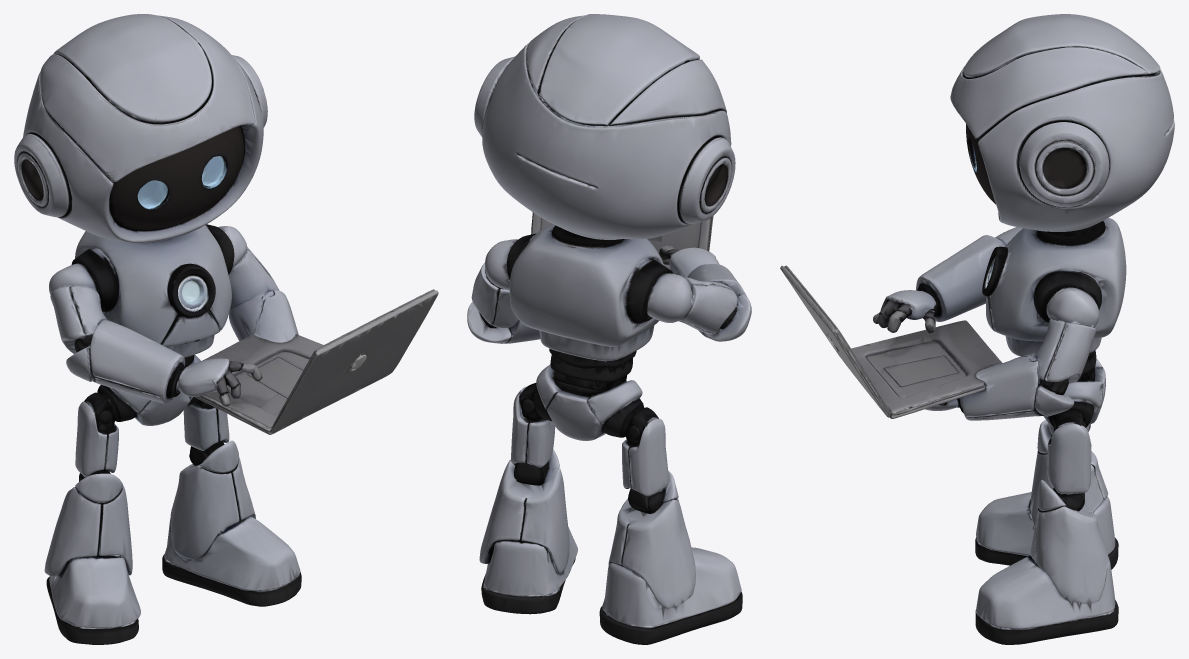
Rendered from joseph.glb.
3 renders of one model, left to right at view 1: azimuth 30°, elevation 25°; view 2: azimuth 150°, elevation 25°; view 3: azimuth 270°, elevation 25°, orthographic. The views are drawn at different scales.
Parts seen in each view (by area): view 1: tripo_node_8bbe689a-29e9-4648-9f48-9d42a53198d9; view 2: tripo_node_8bbe689a-29e9-4648-9f48-9d42a53198d9; view 3: tripo_node_8bbe689a-29e9-4648-9f48-9d42a53198d9.
Part boxes in pixels (left/top/right/bottom): tripo_node_8bbe689a-29e9-4648-9f48-9d42a53198d9: left=14, top=14, right=438, bottom=644; tripo_node_8bbe689a-29e9-4648-9f48-9d42a53198d9: left=467, top=14, right=751, bottom=644; tripo_node_8bbe689a-29e9-4648-9f48-9d42a53198d9: left=780, top=14, right=1174, bottom=644.
Bounding box in the file's own units: 0.5278 × 0.9807 × 0.6274.
1 material, 1 textured.
